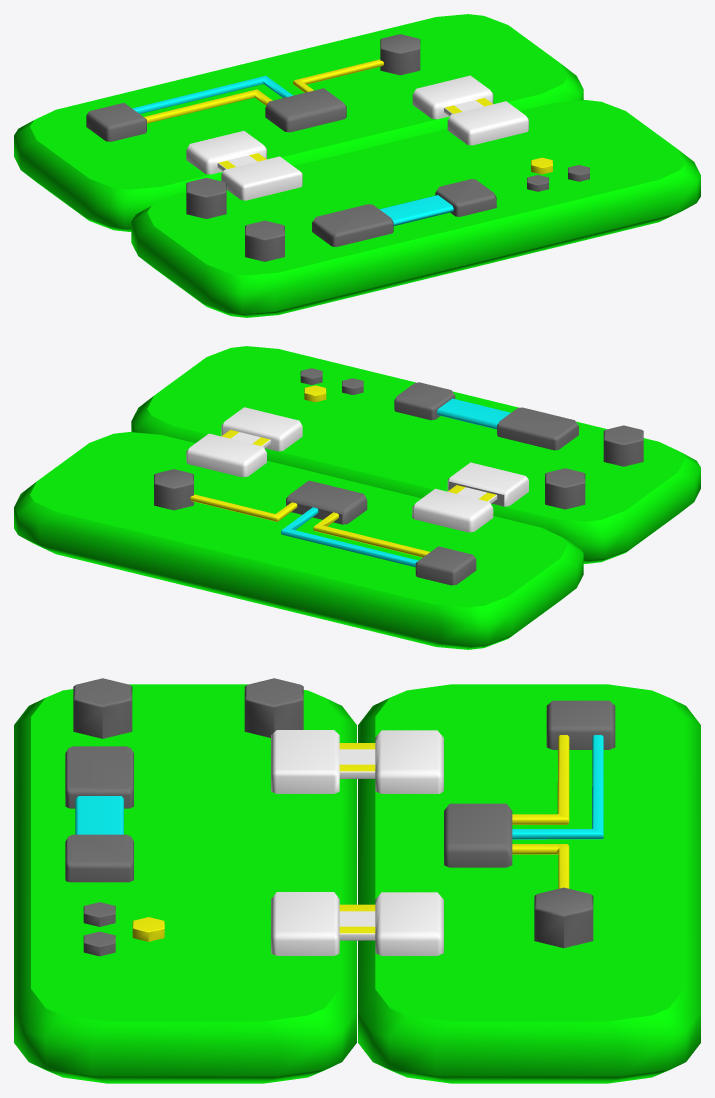
File: CircuitBoard.fbx
3 views of the same model, one above another, from view 1: azimuth 30°, elevation 25°; view 2: azimuth 150°, elevation 25°; view 3: azimuth 270°, elevation 25° (orthographic). The views are drawn at different scales.
Visible parts, largest first — view 1: group75_pCylinder420; view 2: group75_pCylinder420; view 3: group75_pCylinder420.
Part boxes in pixels (x1,y1,x2,y2): group75_pCylinder420: [14, 14, 700, 317]; group75_pCylinder420: [14, 346, 700, 649]; group75_pCylinder420: [14, 678, 700, 1083].
Size of the model in its own units: 85 by 10.73 by 70.13.
